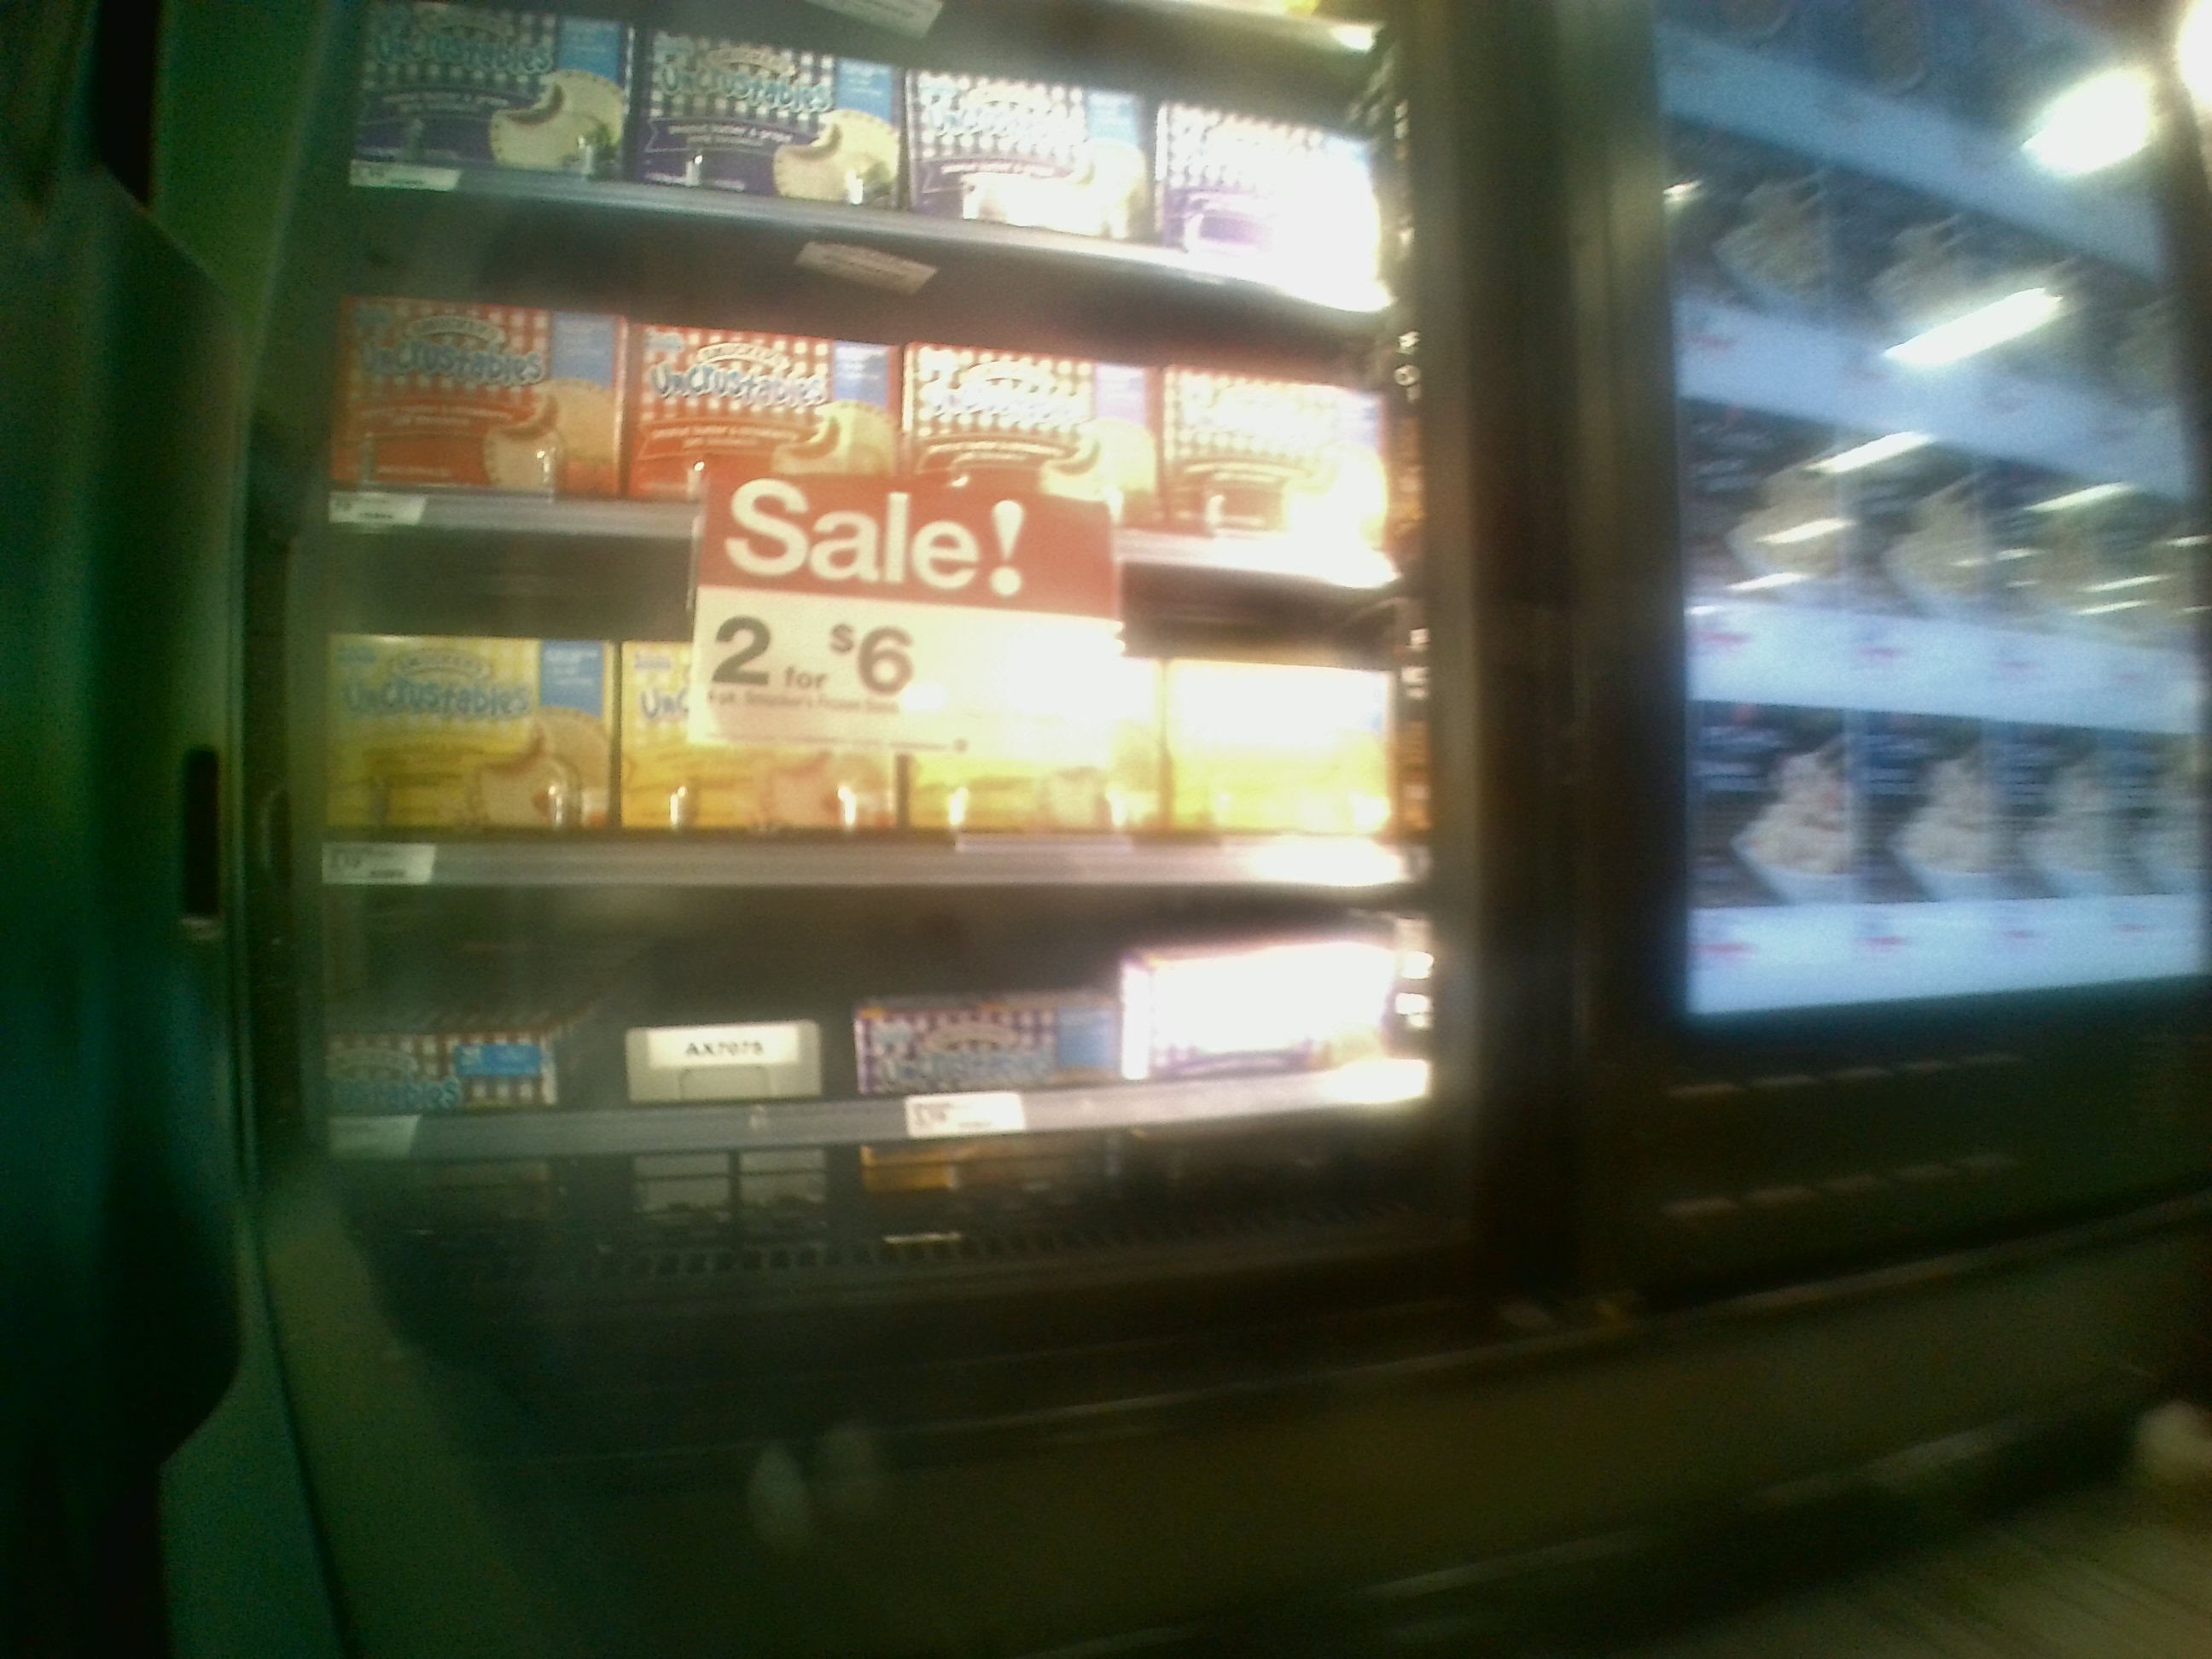shelf: (291, 873, 1460, 1293), (301, 167, 1421, 584), (284, 551, 1446, 892)
